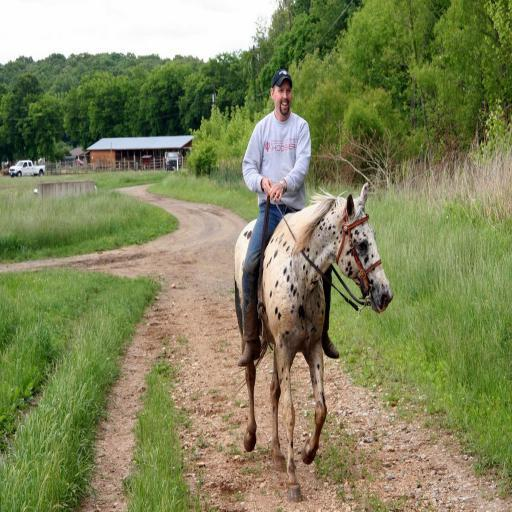horse: (233, 180, 395, 502)
